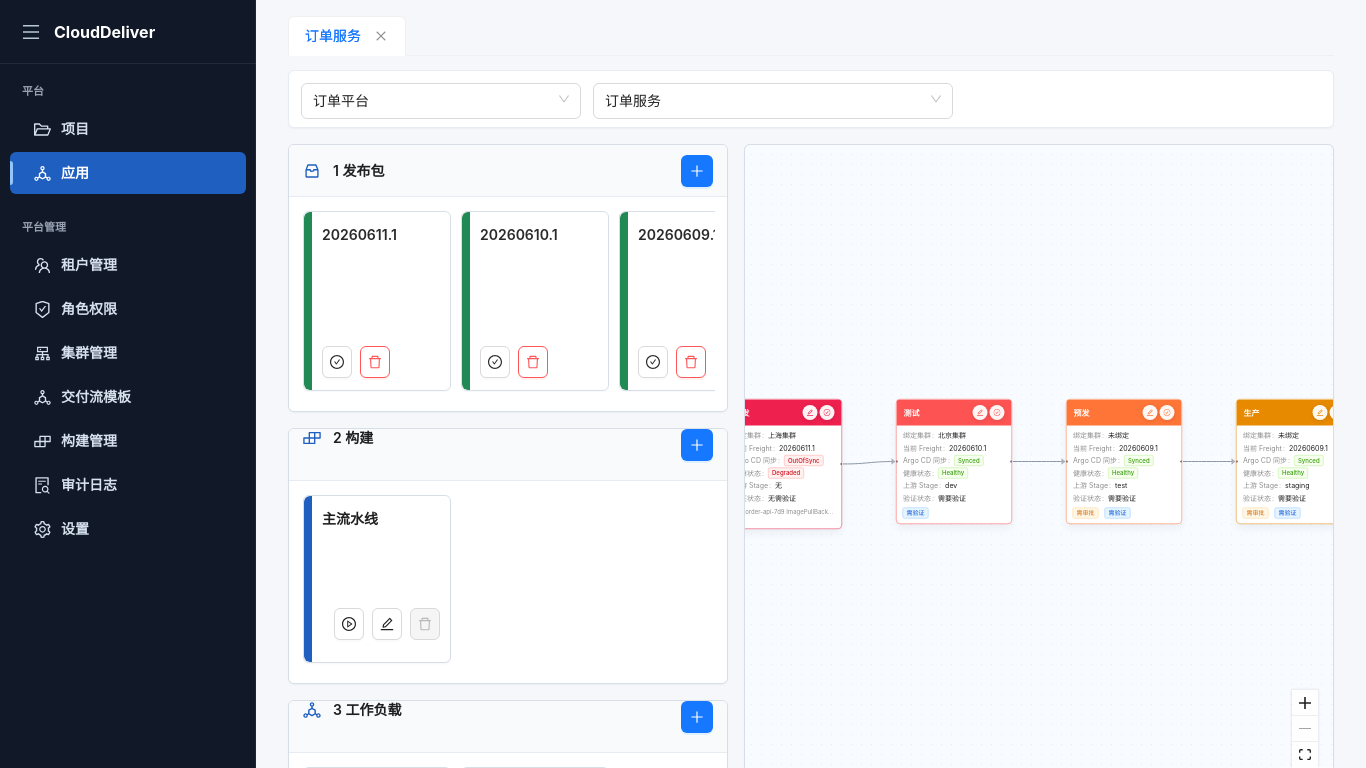
Scenario: 应用详情中创建流水线后列表展示新流水线
The image size is (1366, 768).
Expected: the text "主流水线" is shown, [322, 510, 378, 527]
Click the button named "创建流水线": (697, 445) [681, 429, 713, 461]
(page scrolled)
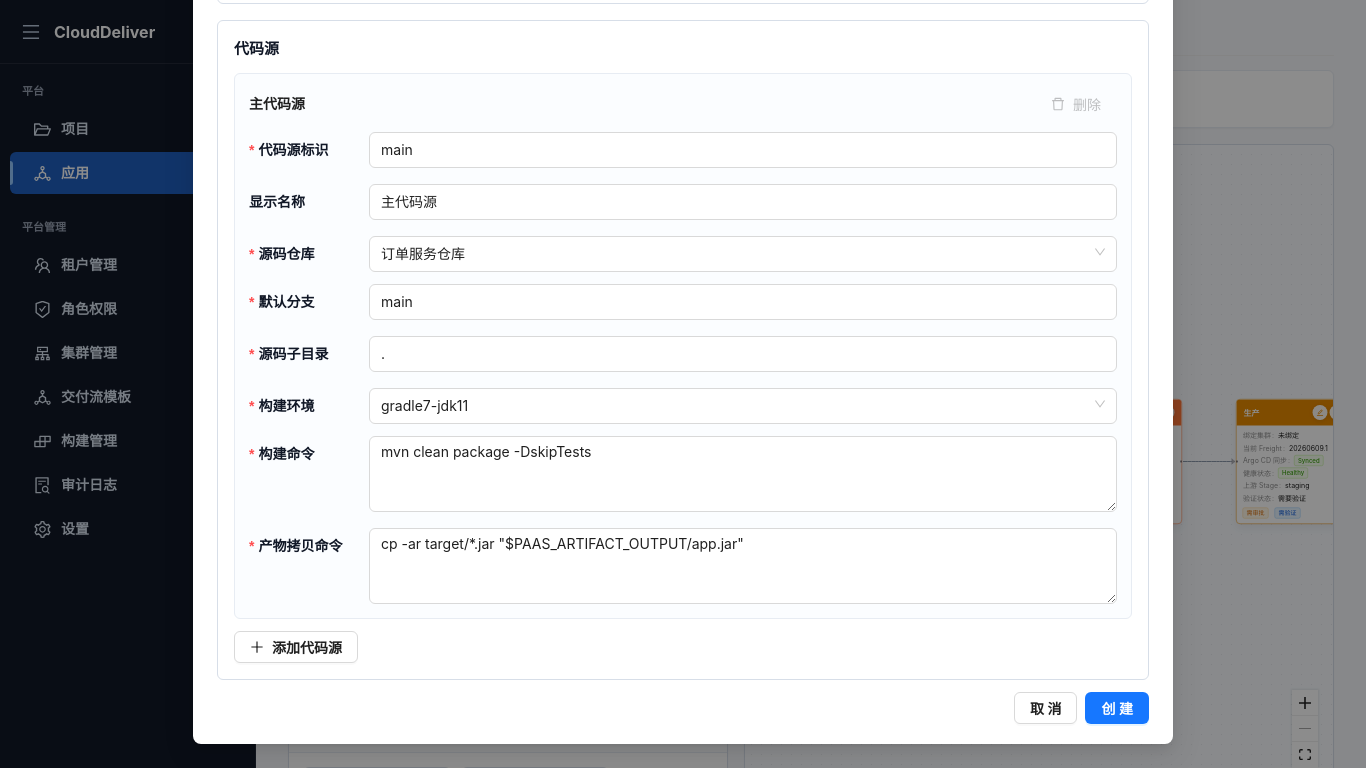
Now the text "主代码源" is shown, box [249, 95, 305, 112]
Click the button "创 建": (1117, 708) [1086, 692, 1149, 724]
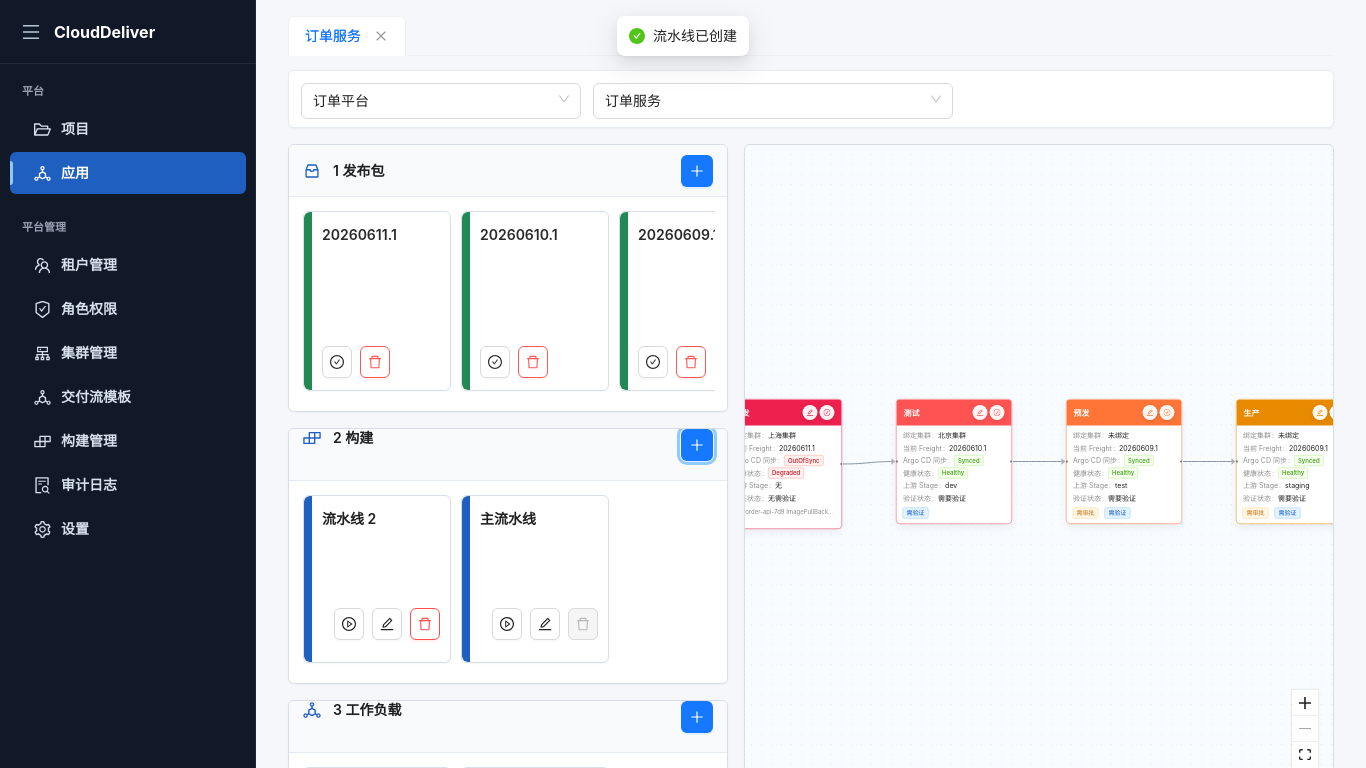
Now the text "流水线 2" is shown, box [322, 510, 376, 527]
Click the button named "编辑" below "流水线 2": (387, 624) [372, 608, 402, 640]
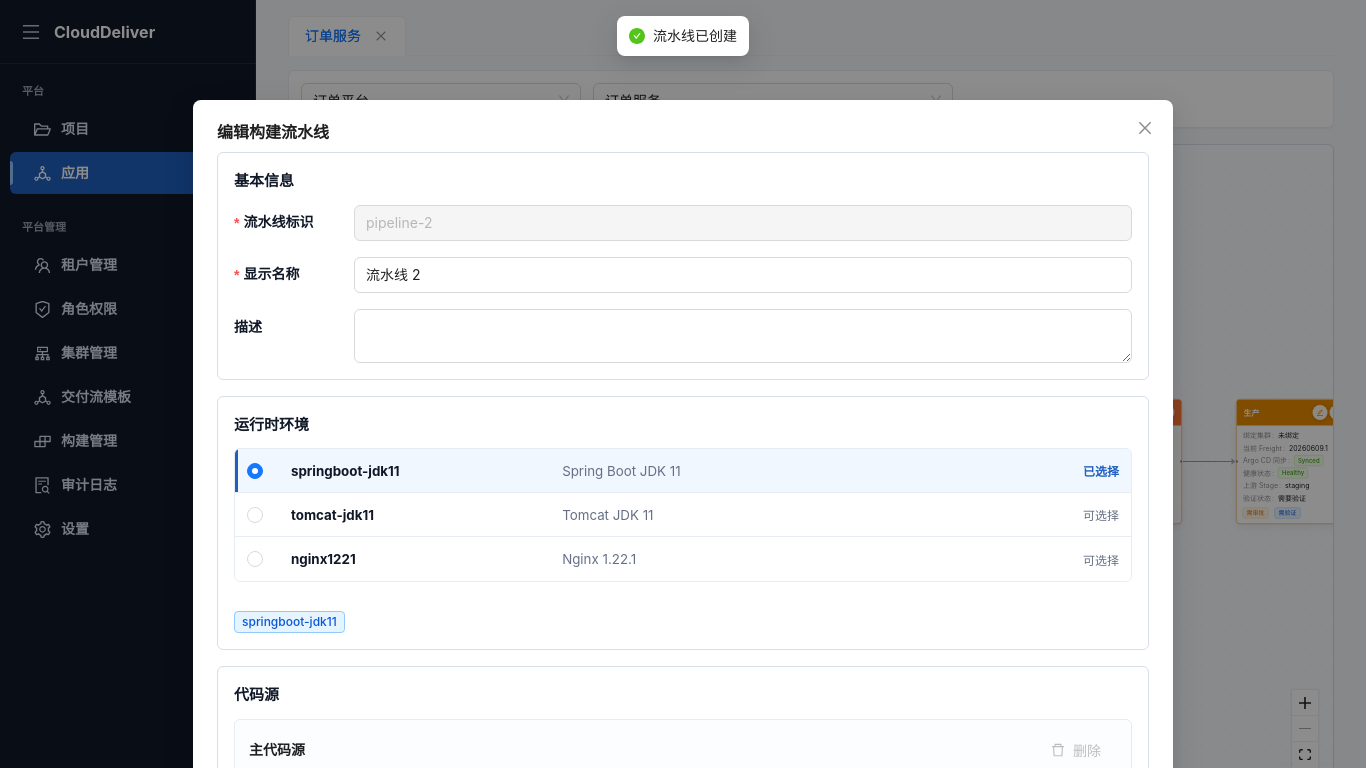
Replace the text in the field showing "流水线 2" next to "显示名称" with "流水线 2 编辑": (743, 275) [354, 257, 1132, 293]
(page scrolled)
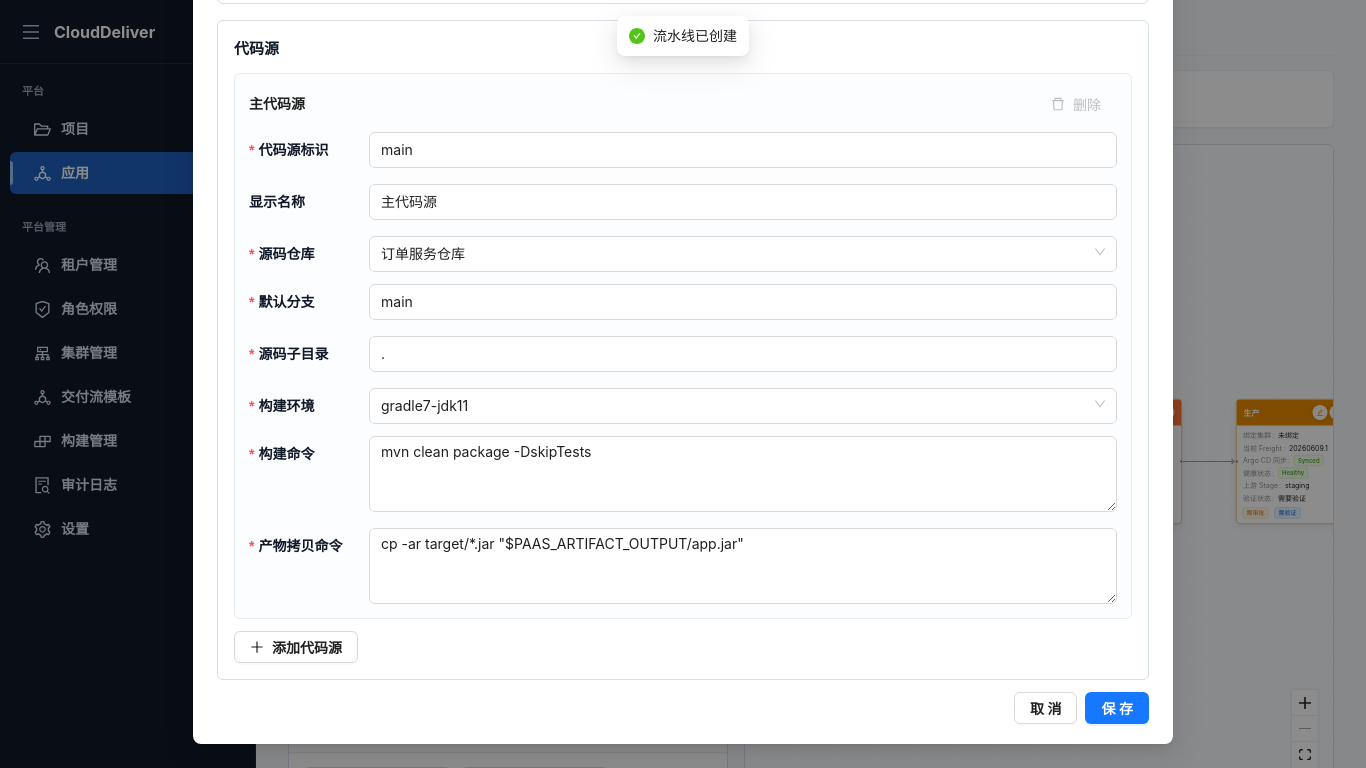
Click the button "保 存": (1117, 708) [1086, 692, 1149, 724]
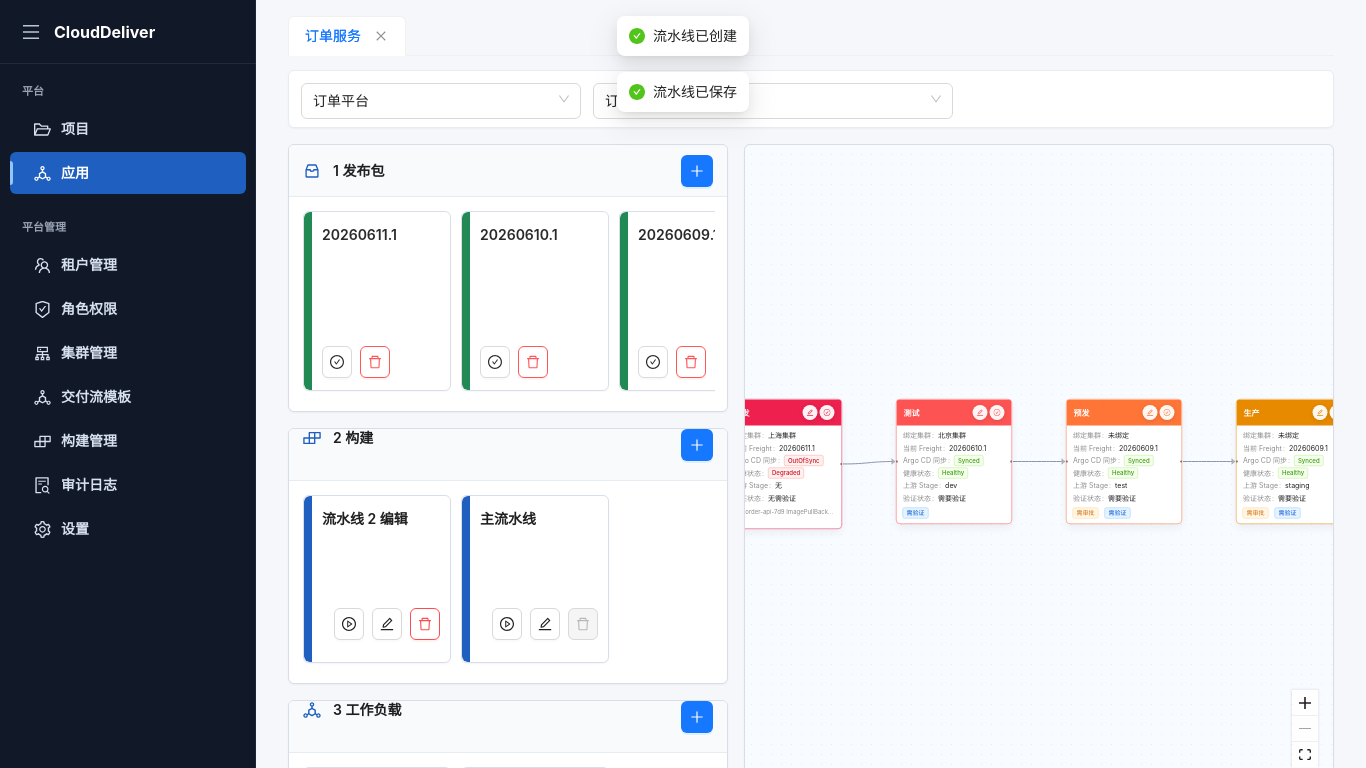
Now the text "流水线 2 编辑" is shown, box [322, 510, 408, 527]
